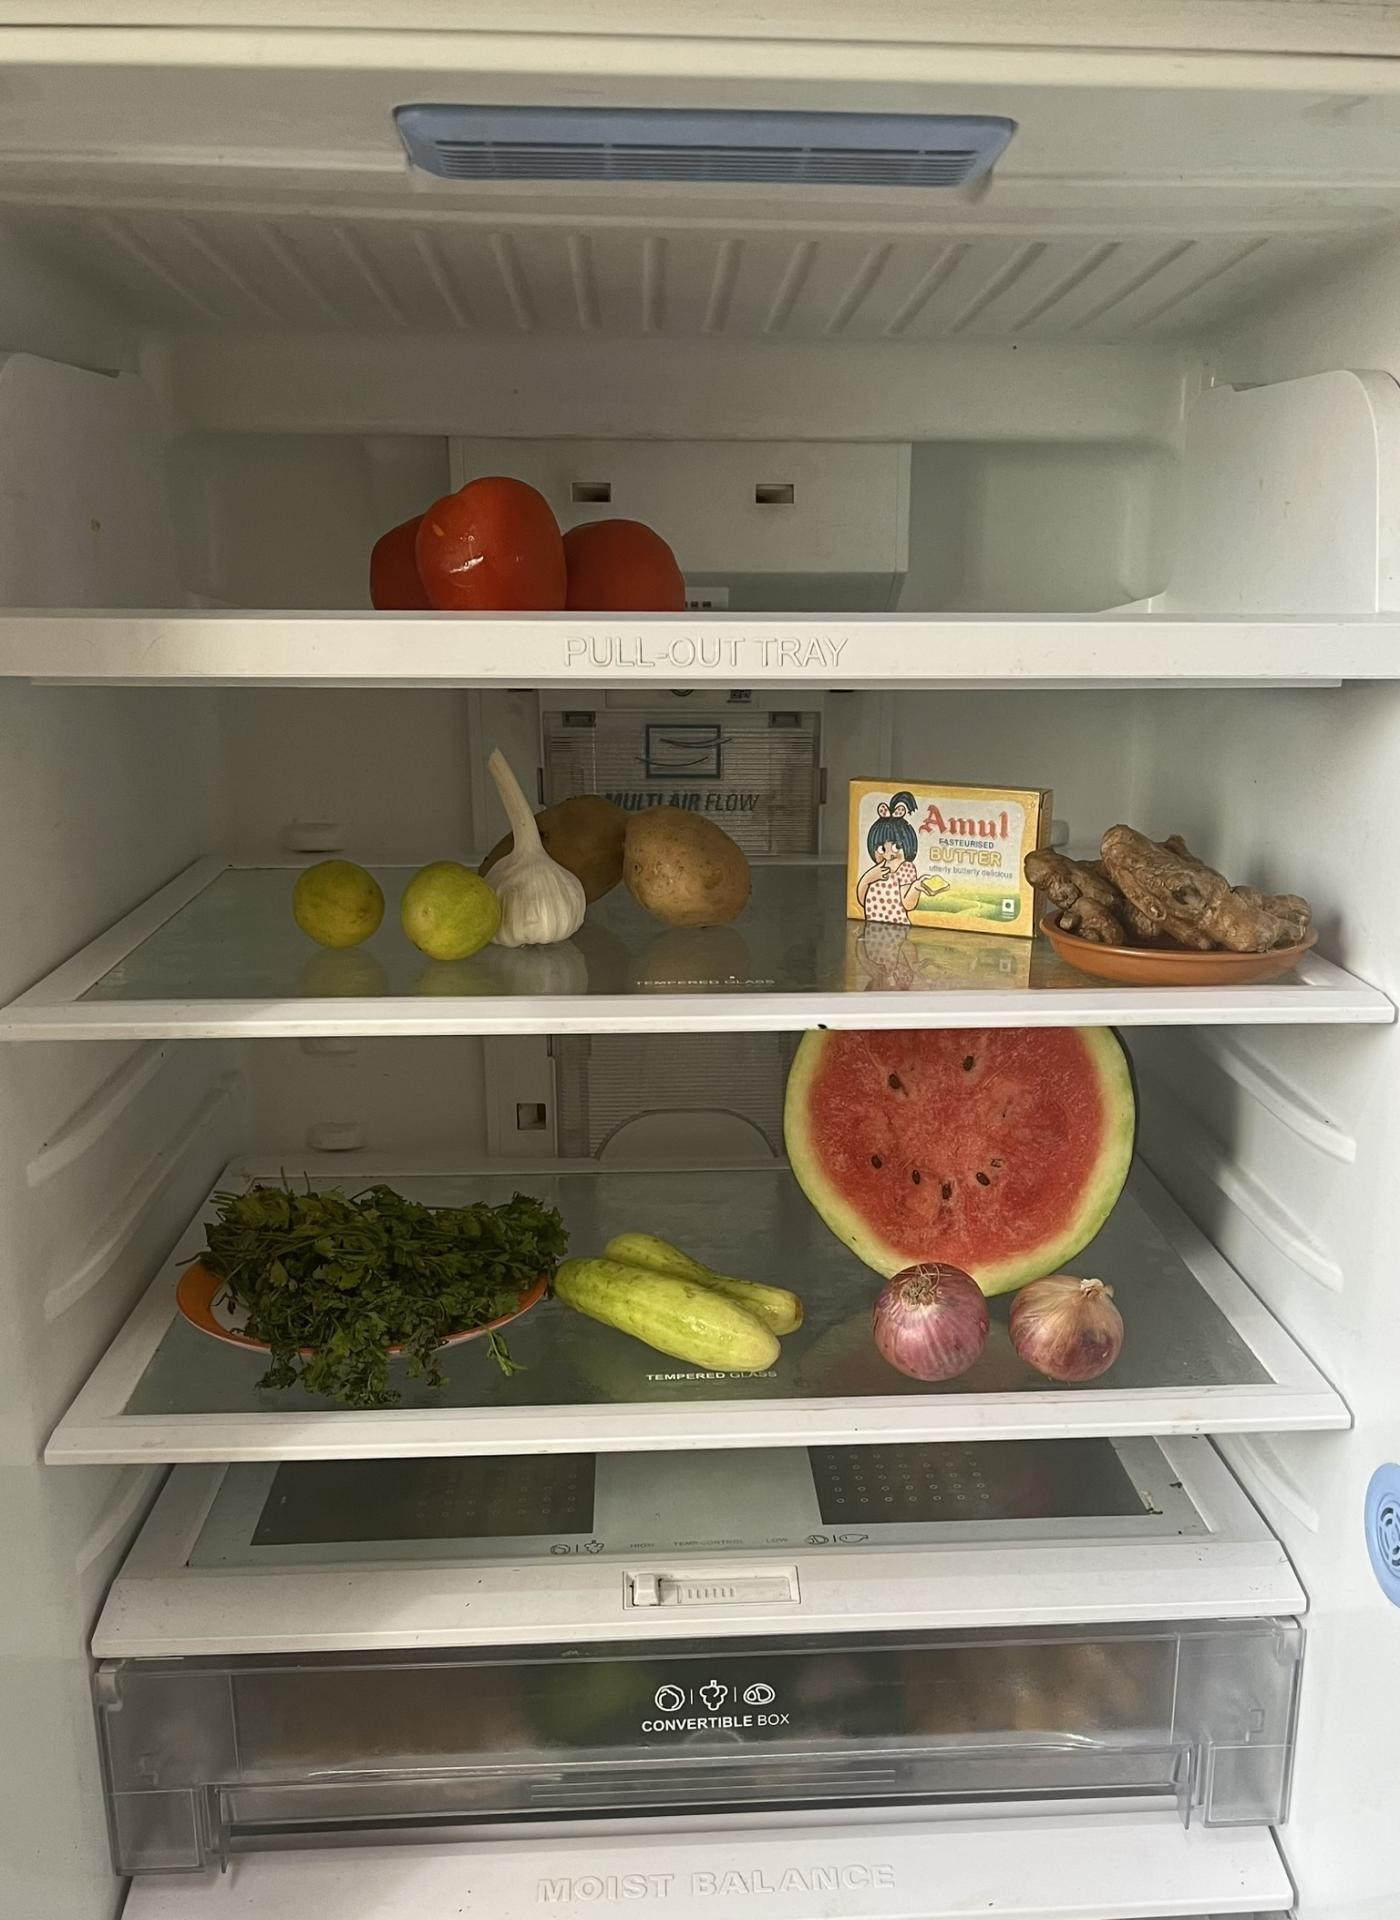butter: (845, 781, 1045, 938)
coriander: (179, 1169, 565, 1391)
cucumber: (565, 1237, 793, 1368)
garlic: (486, 756, 590, 950)
ginger: (1033, 818, 1312, 944)
lemon: (289, 860, 495, 960)
onion: (857, 1269, 1121, 1388)
potato: (492, 781, 744, 932)
tomato: (374, 479, 683, 607)
watermelon: (799, 1032, 1130, 1297)
